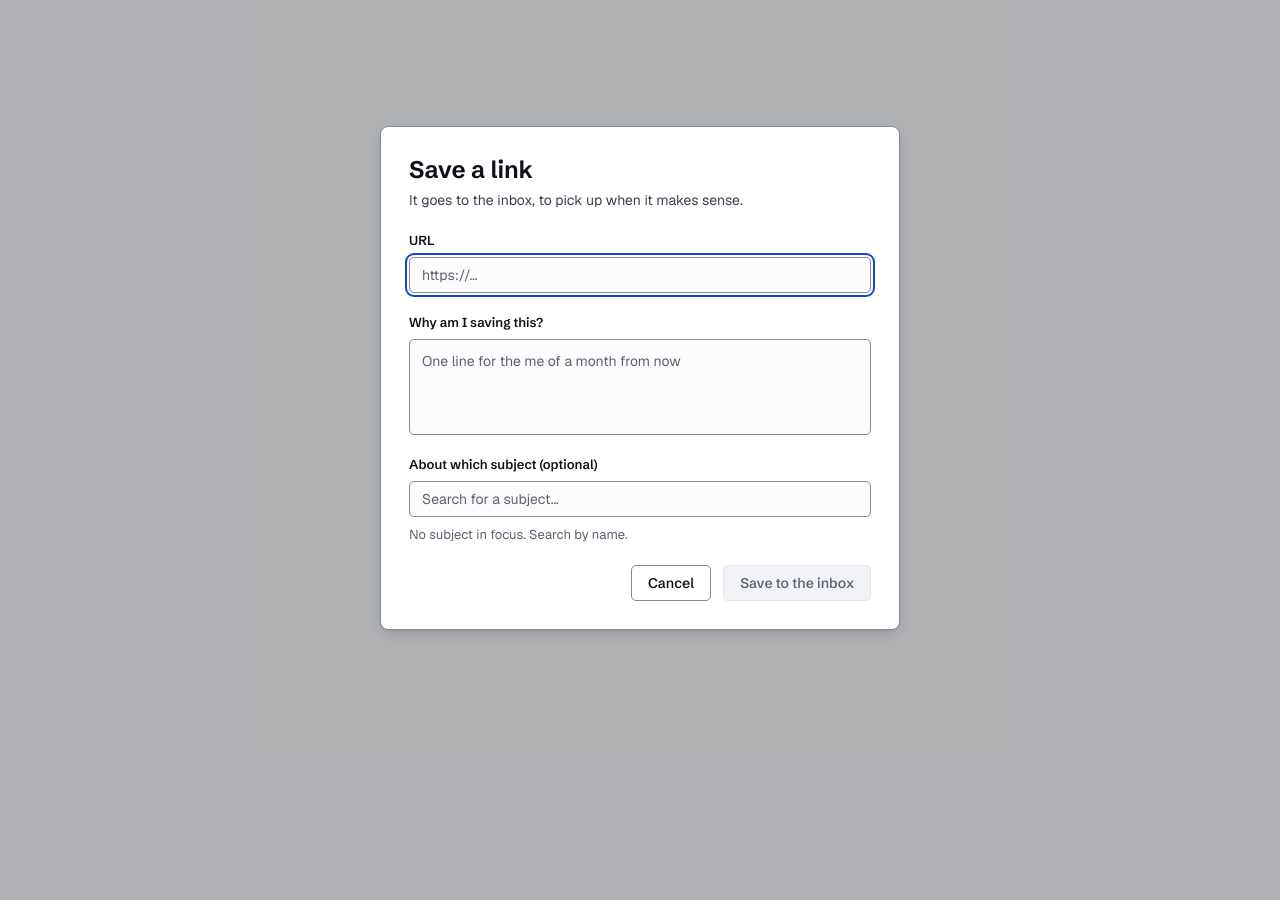
Test: SaveLinkDialog › names the shelf when the URL was already saved
The width and height of the screenshot is (1280, 900).
Type "https://example.org/duplicate" into the field with id "save-url".
click(640, 275); type("https://example.org/duplicate")  # box [409,257,871,293]
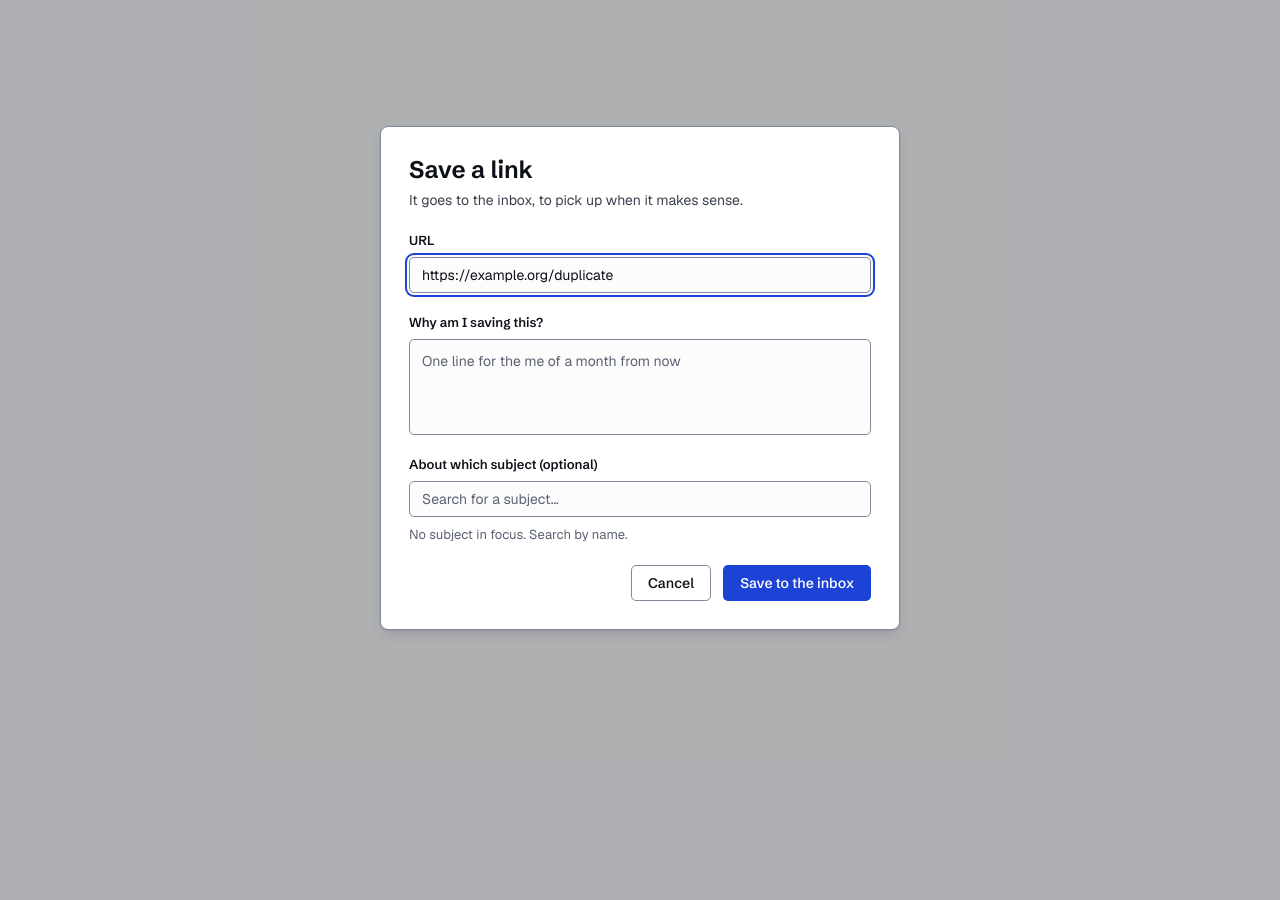
Submit the dialog, box [380,126,900,630]
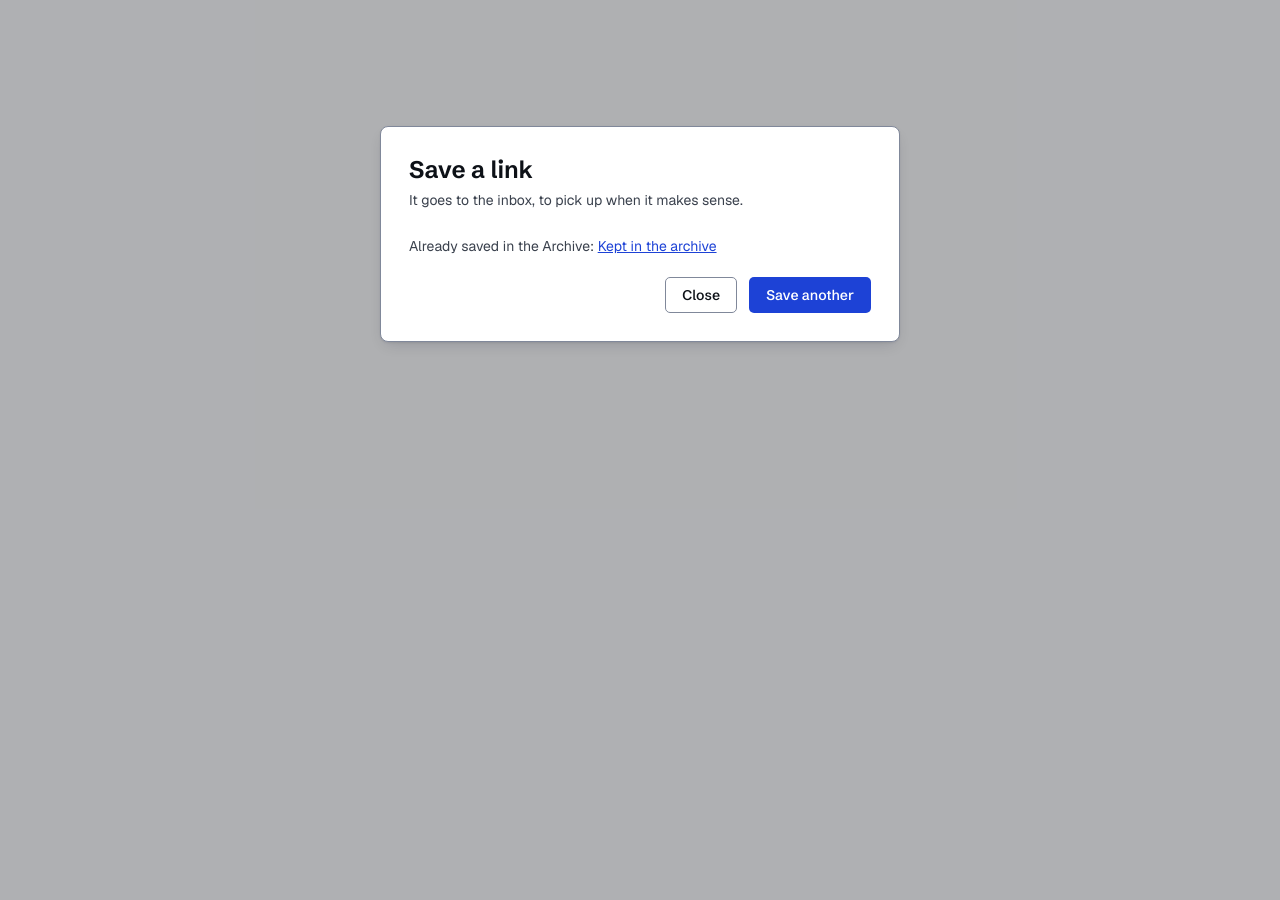
Check: the message with class "save-done" shows "Already saved in the Archive", box [409,237,598,255]
Check: the message with class "save-done" shows "Kept in the archive", box [598,237,717,255]
